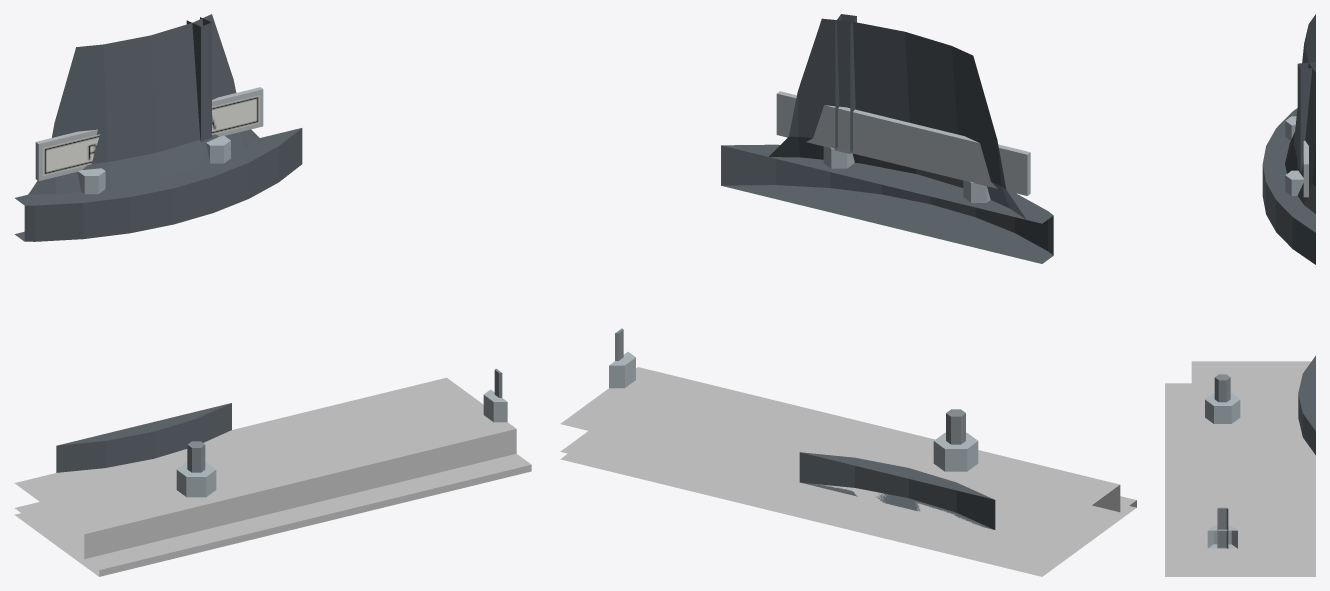
The model's file is cell_18.obj.
3 renders of one model, left to right at view 1: azimuth 30°, elevation 25°; view 2: azimuth 150°, elevation 25°; view 3: azimuth 270°, elevation 25°, orthographic. The views are drawn at different scales.
Bounding box in the file's own units: 1 × 1 × 0.34.
